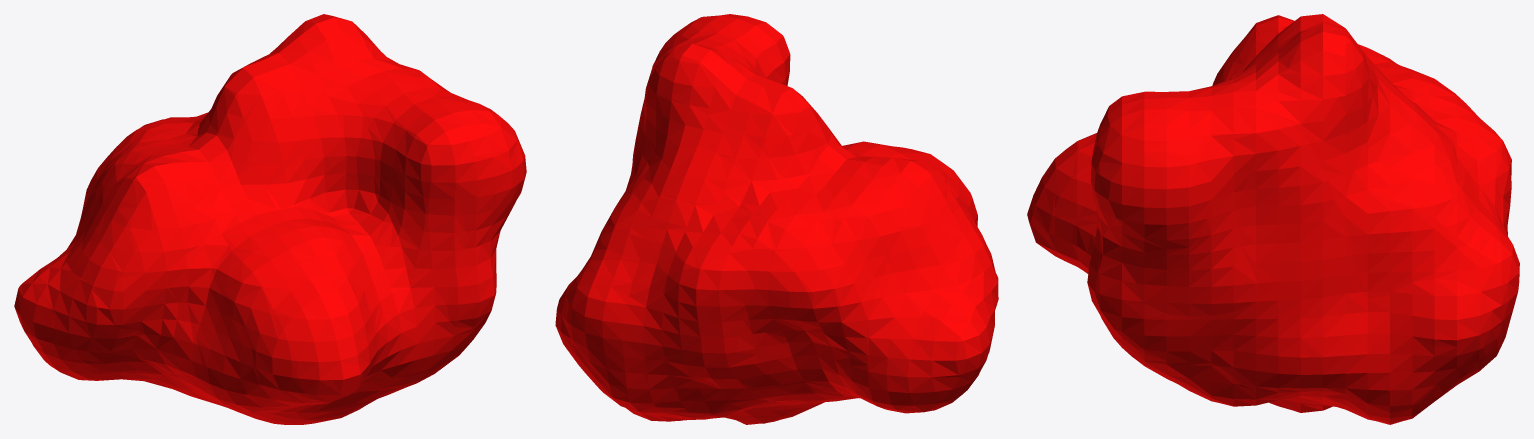
File: uspD_coarse.dae
The picture shows the model from 3 angles, left to right: view 1: azimuth 30°, elevation 25°; view 2: azimuth 150°, elevation 25°; view 3: azimuth 270°, elevation 25°; orthographic projection. The views are drawn at different scales.
Parts seen in each view (by area): view 1: uspD; view 2: uspD; view 3: uspD.
Part boxes in pixels (bbox=[...]): uspD: bbox=[14, 14, 526, 424]; uspD: bbox=[555, 14, 998, 424]; uspD: bbox=[1027, 14, 1519, 424].
Size of the model in its own units: 46.38 by 40.65 by 44.62.
